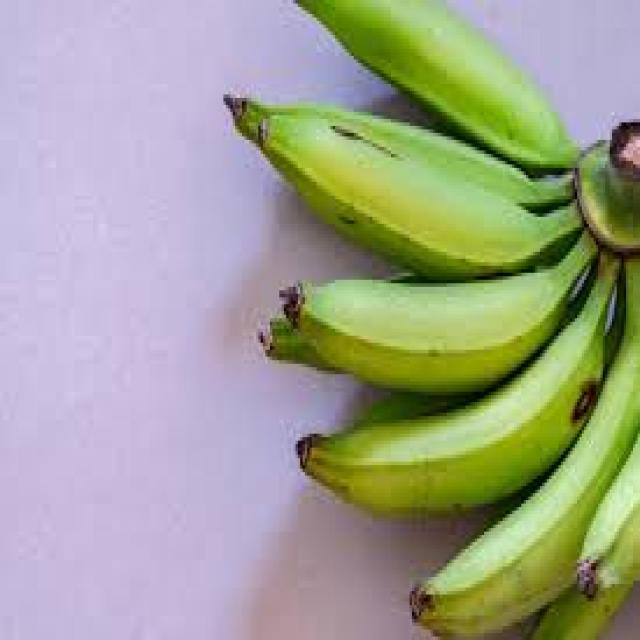Banana: (261, 102, 539, 288), (306, 0, 575, 161), (284, 280, 570, 393), (505, 397, 640, 635), (287, 432, 586, 506)
